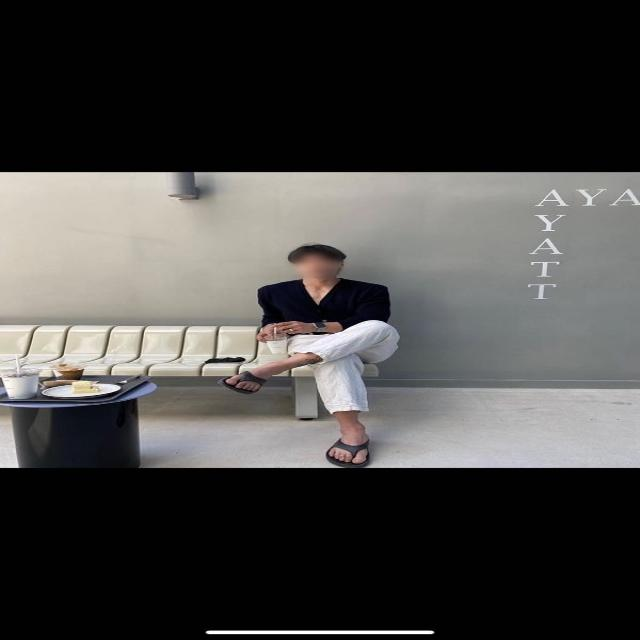cardigan: (258, 278, 397, 329)
cottonpants: (286, 321, 401, 414)
